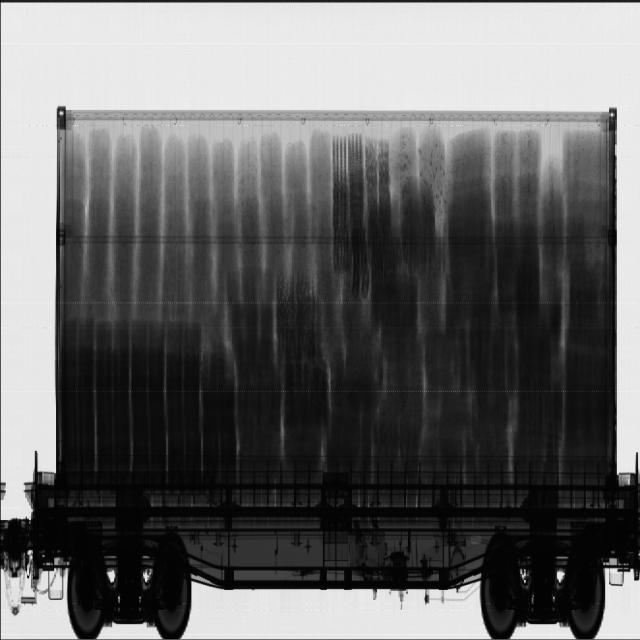textiles: (321, 124, 611, 458), (62, 128, 334, 356)
